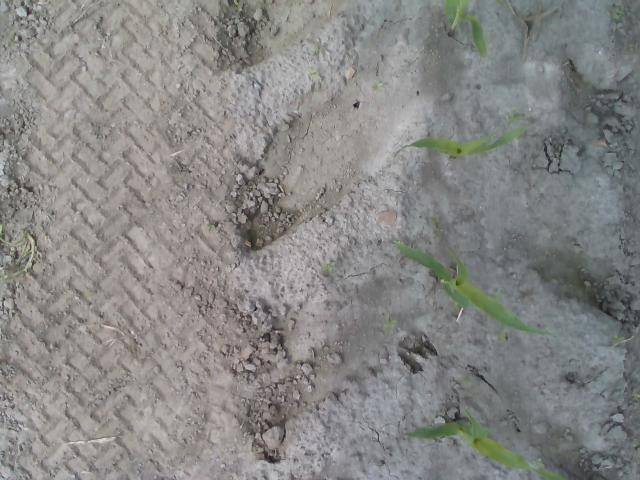Maize: (392, 234, 548, 336), (399, 124, 526, 166), (410, 409, 517, 448), (432, 1, 488, 57)
Weeds: (610, 329, 632, 352), (316, 260, 338, 276), (604, 6, 622, 24), (205, 220, 222, 234), (625, 42, 639, 57), (382, 320, 397, 330)
